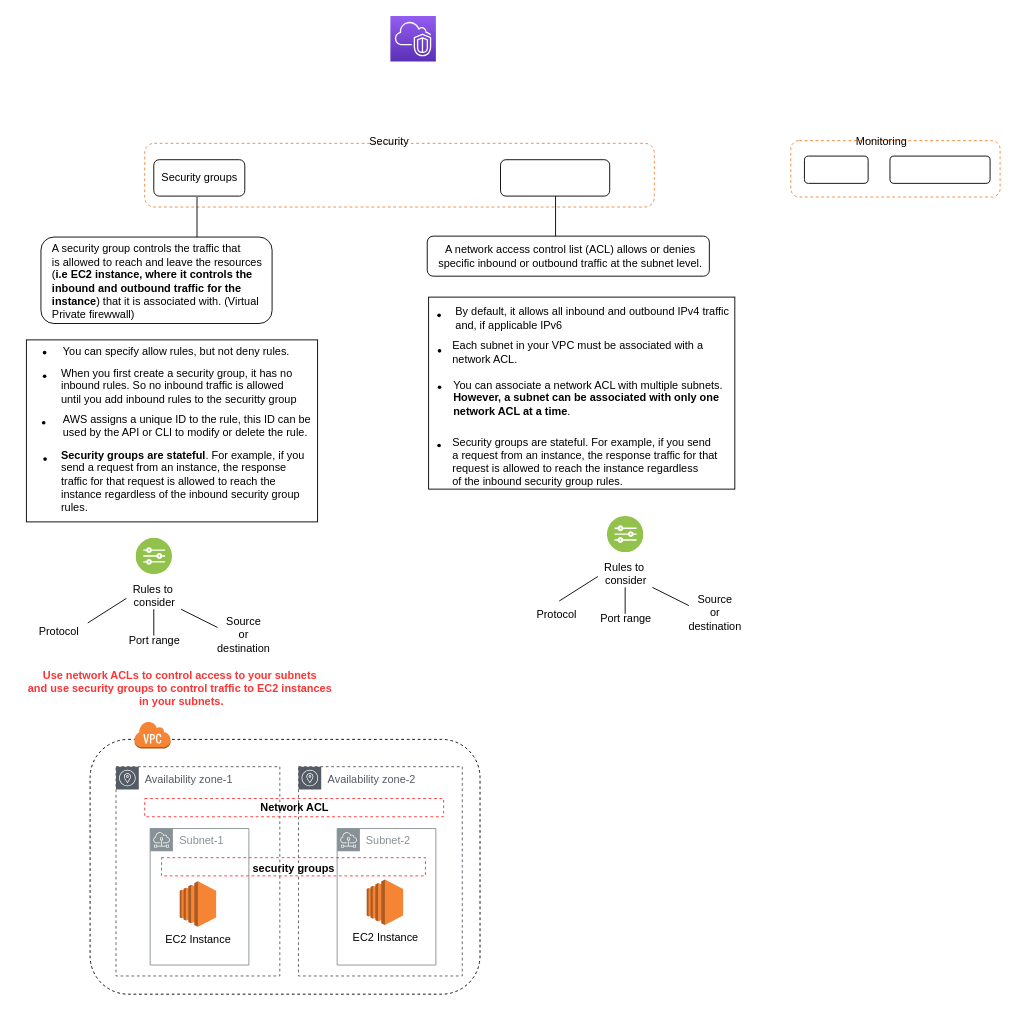
The diagram is 1016 pixels wide and 1010 high, and some of its shapes have lost their labels. Each missing label, with the centre of its shape:
Flow logs: point (836, 169)
Increasing and Monitoring security on VPC: point (412, 38)
Network access control lists ( ACL ): point (555, 177)
Traffic mirroring: point (939, 169)
